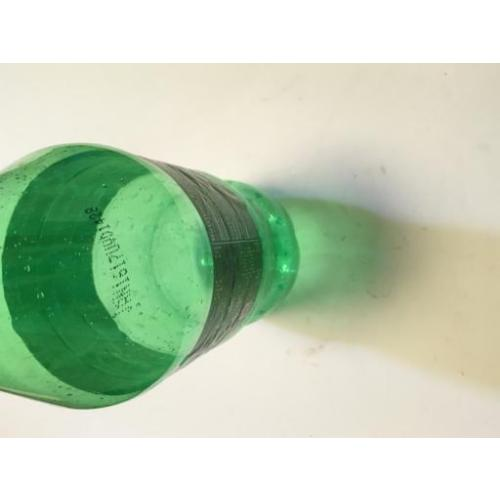plastic: (0, 143, 299, 409)
